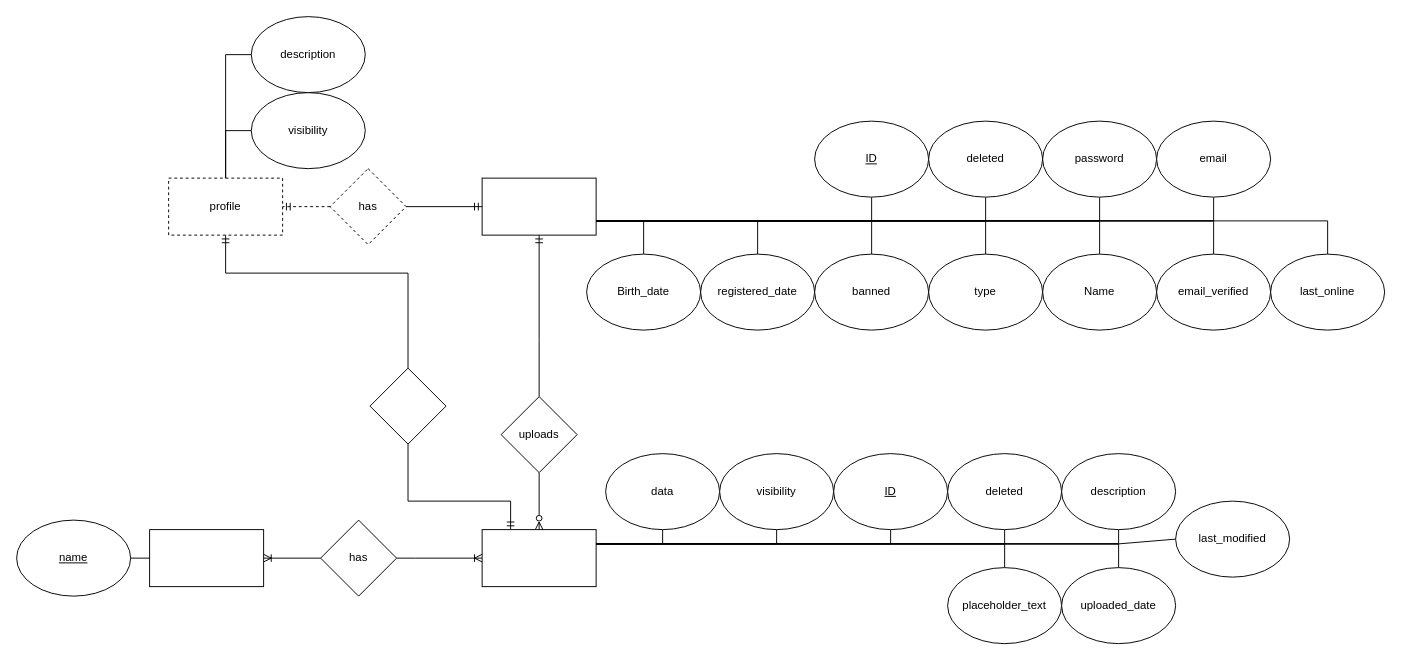
Image size: 1401x660. Some labels were removed from this diagram. Each missing label, with the centre of its shape:
"has_ avatar_ pic" goes at point (407, 405).
"media" goes at point (538, 558).
"tag" goes at point (206, 558).
"User" goes at point (538, 206).
